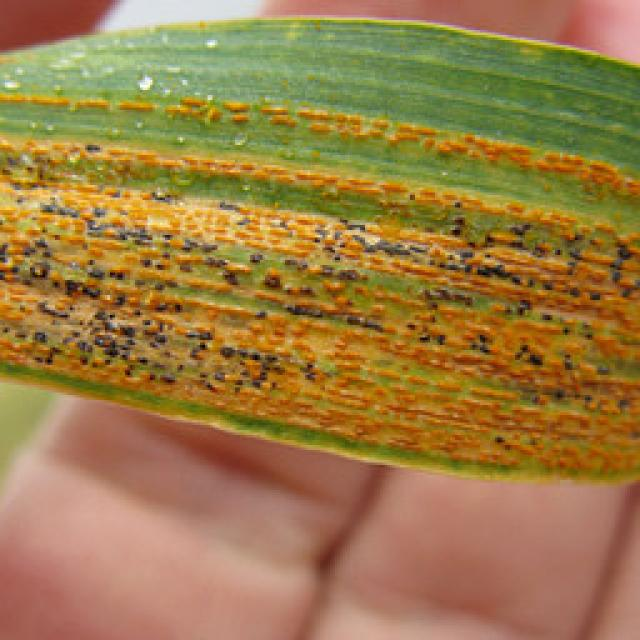wheat-yellowrust: (0, 133, 638, 472), (0, 90, 640, 207)
